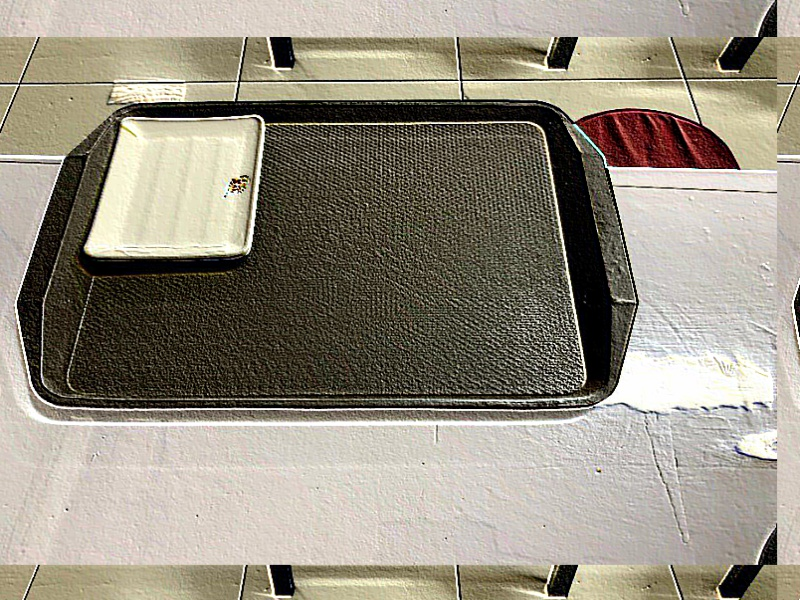dish4: (78, 109, 267, 270)
